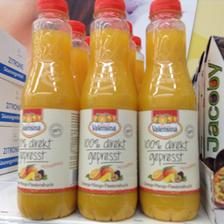Saft: (135, 0, 199, 222), (77, 0, 139, 220), (18, 0, 78, 219)
